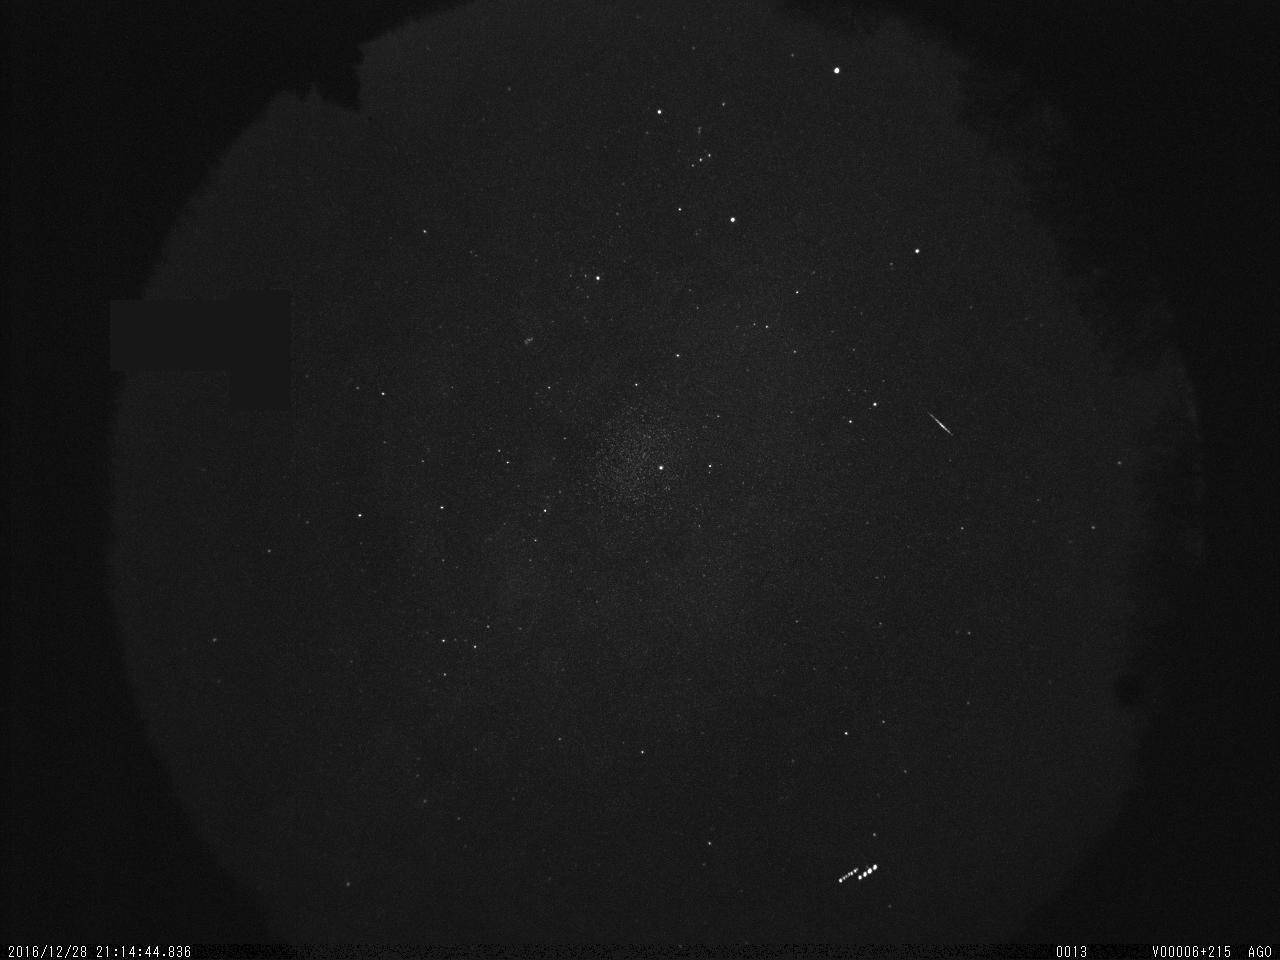meteor: (923, 402, 957, 445)
satelite: (834, 852, 881, 893)
